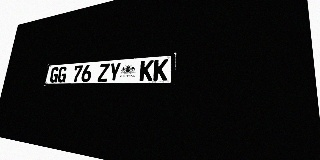plate: (44, 52, 176, 86)
